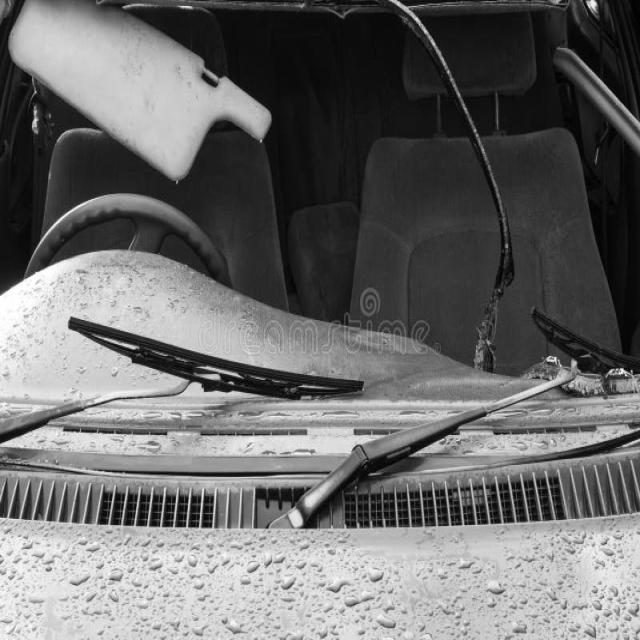shatter: (0, 0, 640, 483)
